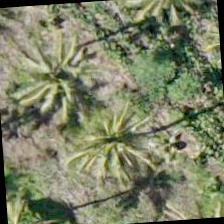Kelapa_Sawit: (11, 23, 107, 119), (12, 23, 108, 119), (65, 93, 161, 189)
